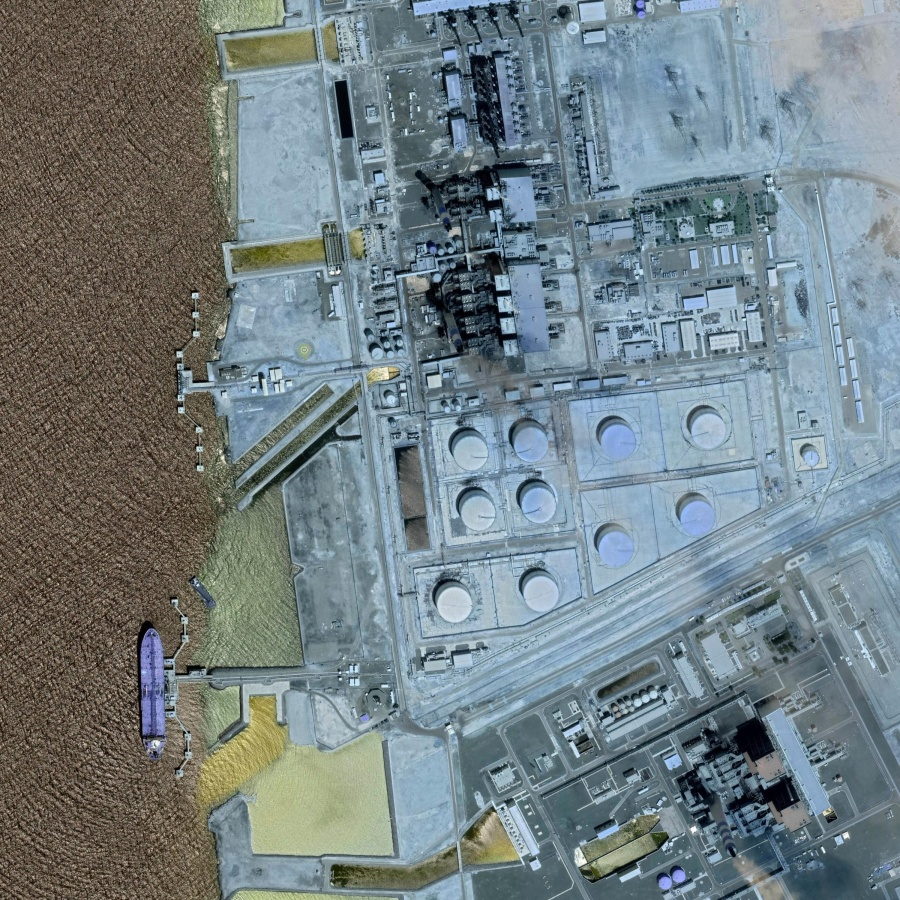PowerPlant: (382, 381, 762, 644), (362, 42, 584, 358)
